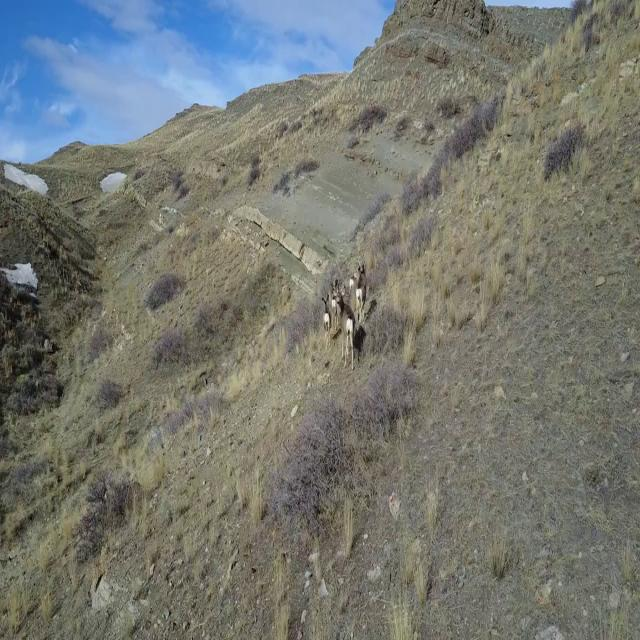Deer: (338, 287, 356, 371), (352, 258, 371, 329), (318, 291, 334, 351)
